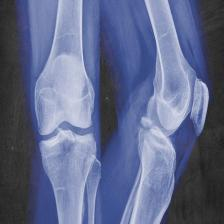avulsion-fracture: (13, 0, 213, 224)
